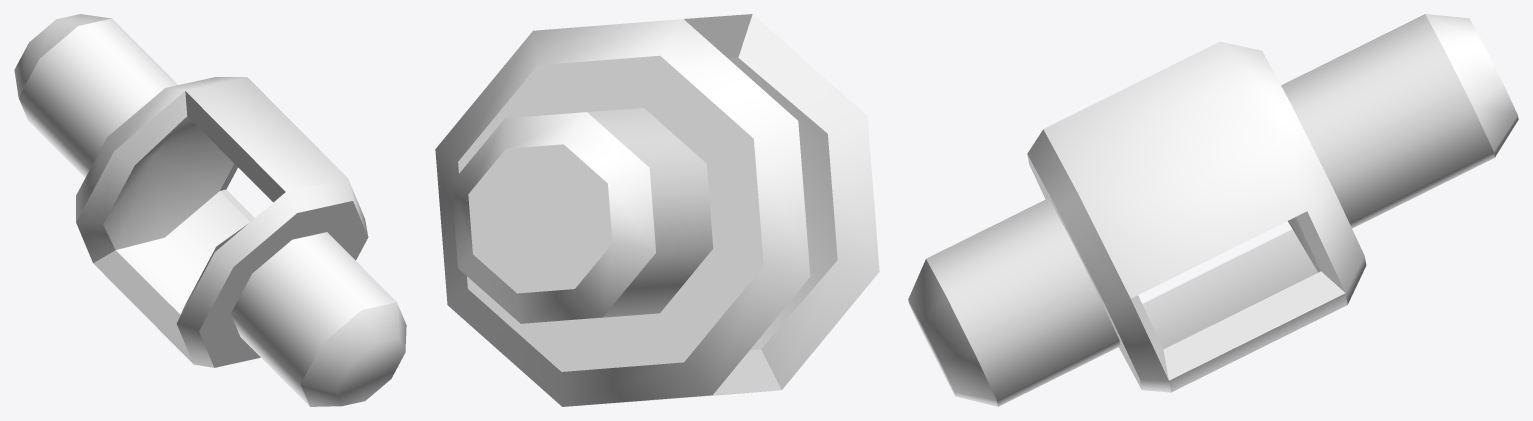
The model's file is shipScrapPart_06.glb.
3 renders of one model, left to right at view 1: azimuth 30°, elevation 25°; view 2: azimuth 150°, elevation 25°; view 3: azimuth 270°, elevation 25°, orthographic. The views are drawn at different scales.
Parts seen in each view (by area): view 1: shipScrapPart_06; view 2: shipScrapPart_06; view 3: shipScrapPart_06.
Boxes of the visible parts, bbox=[...] form: shipScrapPart_06: bbox=[14, 14, 406, 406]; shipScrapPart_06: bbox=[435, 14, 879, 406]; shipScrapPart_06: bbox=[908, 14, 1518, 406].
Size of the model in its own units: 0.8261 by 0.9013 by 1.49.
Materials: 1 (1 with a texture image).
